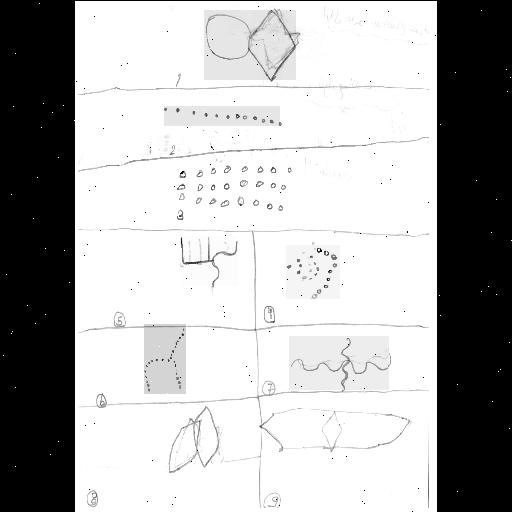shape-1: (204, 10, 296, 80)
shape-2: (164, 106, 280, 126)
shape-3: (178, 164, 294, 212)
shape-4: (286, 245, 340, 299)
shape-5: (182, 236, 238, 286)
shape-6: (144, 324, 186, 394)
shape-7: (289, 336, 389, 390)
shape-8: (168, 406, 216, 474)
shape-9: (262, 409, 408, 451)
